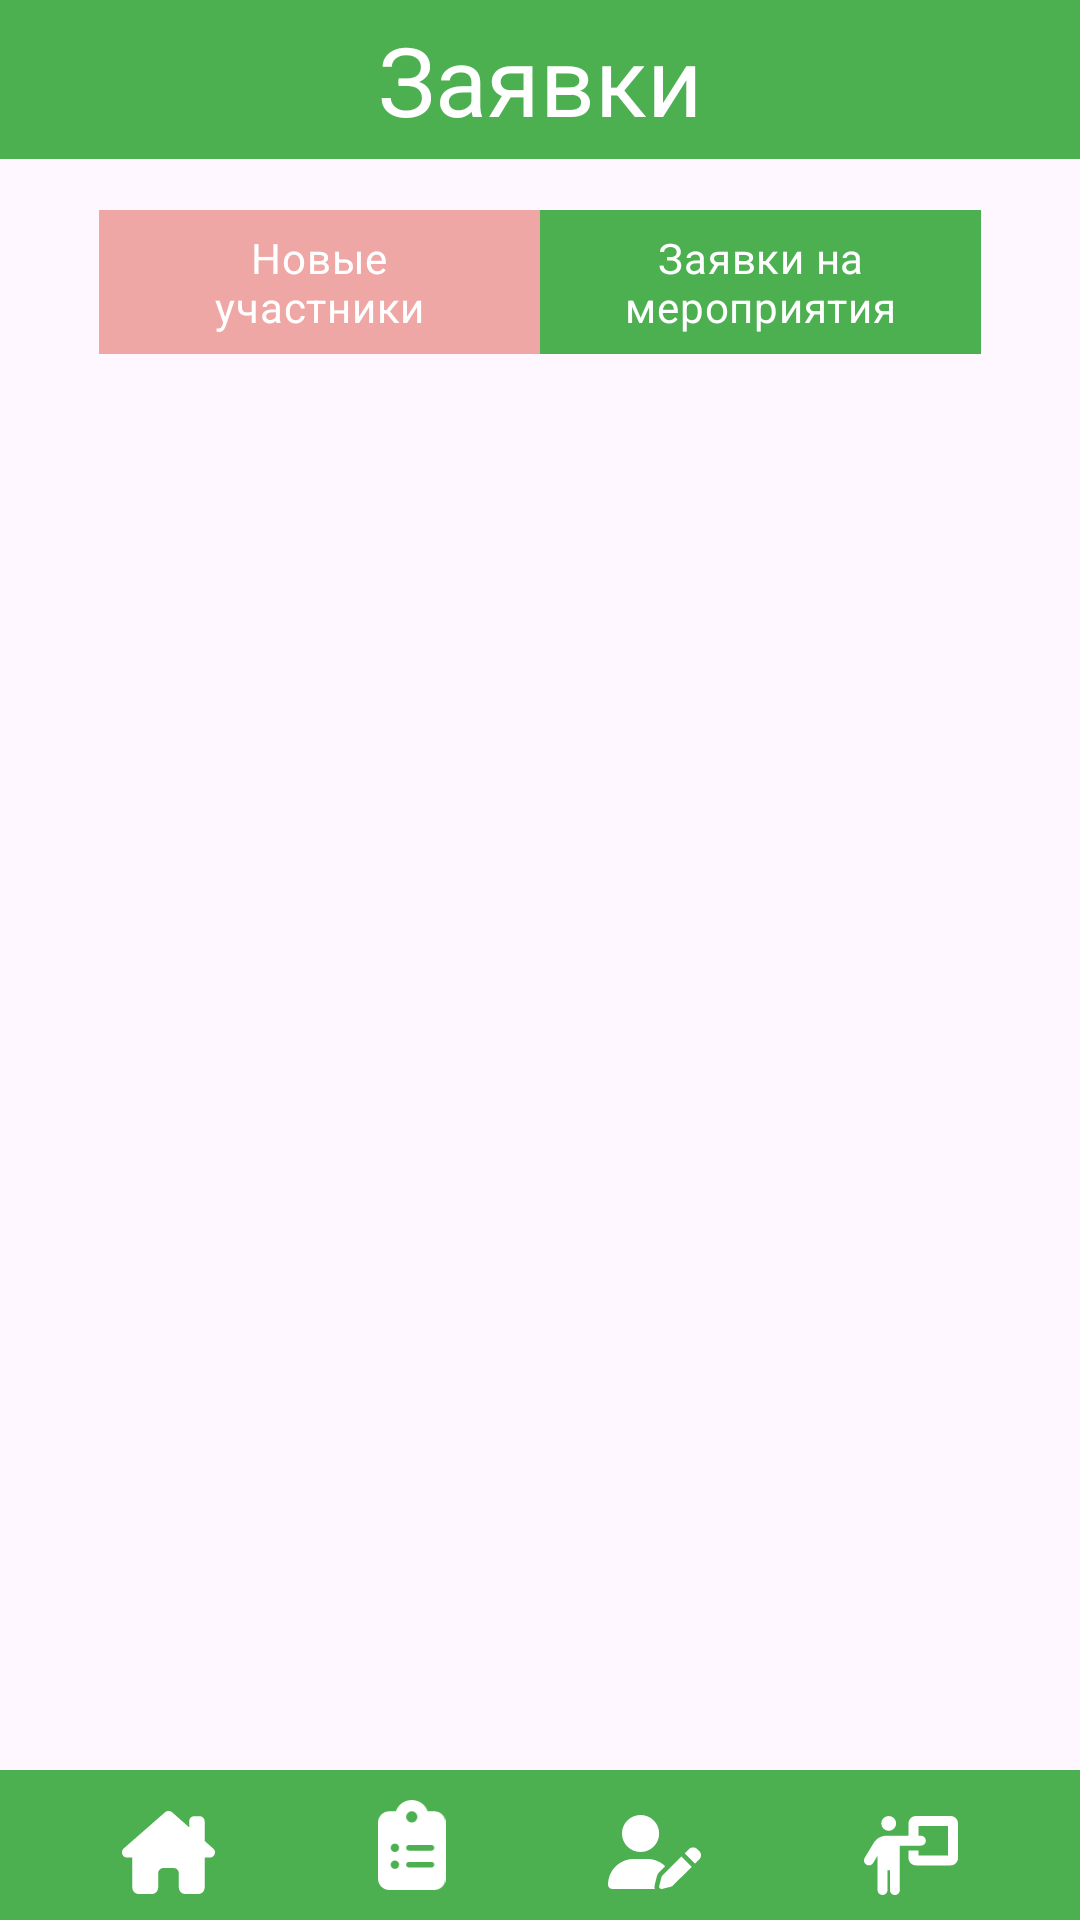

Named icons in this screenshot (1080*1920) and their centers, point (x, y):
clipboard list: point (412, 1845)
house: point (168, 1852)
user pen: point (654, 1852)
